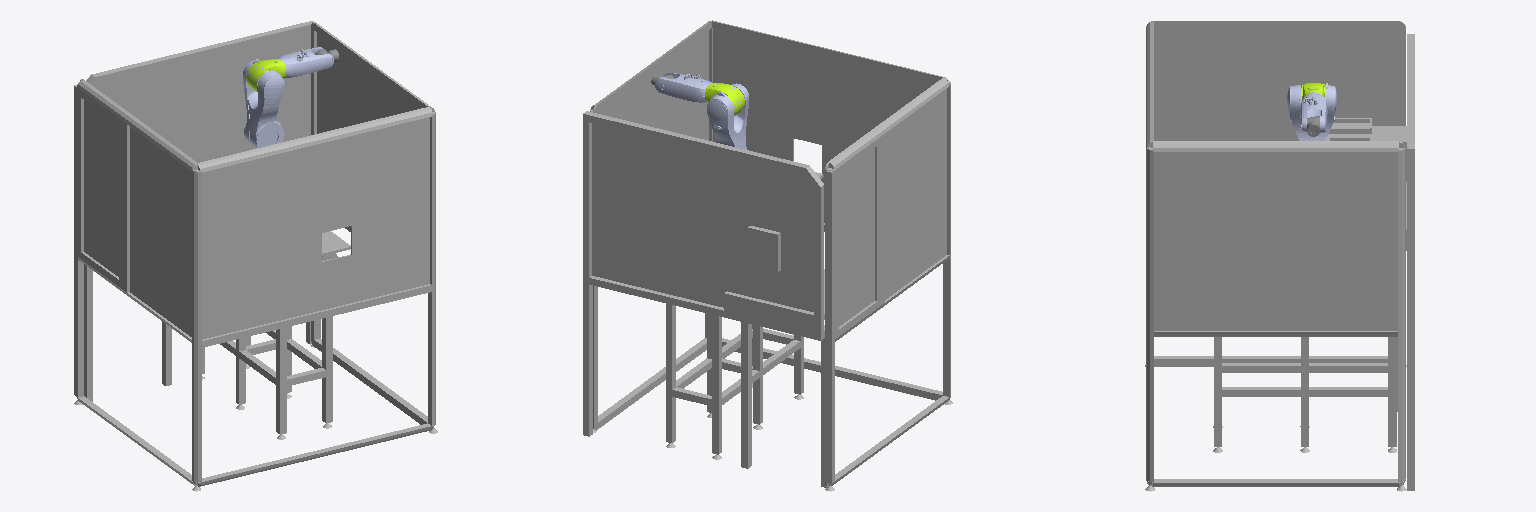
robot.urdf — kuka_urdf:
<?xml version="1.0" encoding="utf-8"?>
<!-- This URDF was automatically created by SolidWorks to URDF Exporter! Originally created by [author] ([email redacted]) 
     Commit Version: 1.5.1-0-g916b5db  Build Version: 1.5.7152.31018
     For more information, please see http://wiki.ros.org/sw_urdf_exporter -->
<robot
  name="kuka_urdf">
  <link
    name="base_link">
    <inertial>
      <origin
        xyz="0.594999519696072 -0.428271085756606 1.10982738925822"
        rpy="0 0 0" />
      <mass
        value="170.009626249841" />
      <inertia
        ixx="15.423191189605"
        ixy="-0.769988015650323"
        ixz="-0.334753403251733"
        iyy="21.0934964927137"
        iyz="-0.217841140427877"
        izz="14.6780515524527" />
    </inertial>
    <visual>
      <origin
        xyz="0 0 0"
        rpy="0 0 0" />
      <geometry>
        <mesh
          filename="package://kuka_urdf/meshes/base_link.STL" />
      </geometry>
      <material
        name="">
        <color
          rgba="0.752941176470588 0.752941176470588 0.752941176470588 1" />
      </material>
    </visual>
    <collision>
      <origin
        xyz="0 0 0"
        rpy="0 0 0" />
      <geometry>
        <mesh
          filename="package://kuka_urdf/meshes/base_link.STL" />
      </geometry>
    </collision>
  </link>
  <link
    name="Link1">
    <inertial>
      <origin
        xyz="0.00796741917398325 0.00201869055885101 0.115718073498994"
        rpy="0 0 0" />
      <mass
        value="6.27526433045052" />
      <inertia
        ixx="0.0762054973038654"
        ixy="9.82188144569927E-06"
        ixz="-0.00530053527199465"
        iyy="0.0500772495062891"
        iyz="-0.00051503963743002"
        izz="0.0562692167501733" />
    </inertial>
    <visual>
      <origin
        xyz="0 0 0"
        rpy="0 0 0" />
      <geometry>
        <mesh
          filename="package://kuka_urdf/meshes/Link1.STL" />
      </geometry>
      <material
        name="">
        <color
          rgba="0.792156862745098 0.819607843137255 0.933333333333333 1" />
      </material>
    </visual>
    <collision>
      <origin
        xyz="0 0 0"
        rpy="0 0 0" />
      <geometry>
        <mesh
          filename="package://kuka_urdf/meshes/Link1.STL" />
      </geometry>
    </collision>
  </link>
  <joint
    name="Joint1"
    type="revolute">
    <origin
      xyz="0.8275 -0.43219 1.3595"
      rpy="0 0 0" />
    <parent
      link="base_link" />
    <child
      link="Link1" />
    <axis
      xyz="0 0 1" />
    <limit
      lower="-6.28"
      upper="6.28"
      effort="500"
      velocity="2" />
  </joint>
  <link
    name="Link2">
    <inertial>
      <origin
        xyz="-0.00525474427373662 -0.00581945166654135 0.131443823398878"
        rpy="0 0 0" />
      <mass
        value="7.36258419830385" />
      <inertia
        ixx="0.151415780044457"
        ixy="-1.49717820004801E-05"
        ixz="0.000868975891906839"
        iyy="0.135639503717904"
        iyz="0.00168356968157077"
        izz="0.0384883579896224" />
    </inertial>
    <visual>
      <origin
        xyz="0 0 0"
        rpy="0 0 0" />
      <geometry>
        <mesh
          filename="package://kuka_urdf/meshes/Link2.STL" />
      </geometry>
      <material
        name="">
        <color
          rgba="0.792156862745098 0.819607843137255 0.933333333333333 1" />
      </material>
    </visual>
    <collision>
      <origin
        xyz="0 0 0"
        rpy="0 0 0" />
      <geometry>
        <mesh
          filename="package://kuka_urdf/meshes/Link2.STL" />
      </geometry>
    </collision>
  </link>
  <joint
    name="Joint2"
    type="revolute">
    <origin
      xyz="0.025 0 0.183"
      rpy="0 0 0" />
    <parent
      link="Link1" />
    <child
      link="Link2" />
    <axis
      xyz="0 -1 0" />
    <limit
      lower="-6.28"
      upper="6.28"
      effort="500"
      velocity="2" />
  </joint>
  <link
    name="Link3">
    <inertial>
      <origin
        xyz="0.0158897369187757 0.00377551618976696 0.0103622040607538"
        rpy="0 0 0" />
      <mass
        value="2.90698496734874" />
      <inertia
        ixx="0.00835937630352446"
        ixy="3.52504576818561E-05"
        ixz="-0.00140858847686176"
        iyy="0.0112132449448129"
        iyz="1.88954255172526E-05"
        izz="0.0100277382418828" />
    </inertial>
    <visual>
      <origin
        xyz="0 0 0"
        rpy="0 0 0" />
      <geometry>
        <mesh
          filename="package://kuka_urdf/meshes/Link3.STL" />
      </geometry>
      <material
        name="">
        <color
          rgba="0.8 1 0.2 1" />
      </material>
    </visual>
    <collision>
      <origin
        xyz="0 0 0"
        rpy="0 0 0" />
      <geometry>
        <mesh
          filename="package://kuka_urdf/meshes/Link3.STL" />
      </geometry>
    </collision>
  </link>
  <joint
    name="Joint3"
    type="revolute">
    <origin
      xyz="0 0 0.315"
      rpy="0 0 0" />
    <parent
      link="Link2" />
    <child
      link="Link3" />
    <axis
      xyz="0 -1 0" />
    <limit
      lower="-6.28"
      upper="6.28"
      effort="500"
      velocity="2" />
  </joint>
  <link
    name="Link4">
    <inertial>
      <origin
        xyz="0.123981724214701 0.0034688211324434 0.000289159358459745"
        rpy="0 0 0" />
      <mass
        value="2.75654210425904" />
      <inertia
        ixx="0.00584711964625554"
        ixy="-0.000156323136874247"
        ixz="5.19522467907691E-06"
        iyy="0.0156113113263976"
        iyz="1.44373593566698E-05"
        izz="0.0172713088405886" />
    </inertial>
    <visual>
      <origin
        xyz="0 0 0"
        rpy="0 0 0" />
      <geometry>
        <mesh
          filename="package://kuka_urdf/meshes/Link4.STL" />
      </geometry>
      <material
        name="">
        <color
          rgba="0.792156862745098 0.819607843137255 0.933333333333333 1" />
      </material>
    </visual>
    <collision>
      <origin
        xyz="0 0 0"
        rpy="0 0 0" />
      <geometry>
        <mesh
          filename="package://kuka_urdf/meshes/Link4.STL" />
      </geometry>
    </collision>
  </link>
  <joint
    name="Joint4"
    type="revolute">
    <origin
      xyz="0.10695 0.003 0.035"
      rpy="0 0 0" />
    <parent
      link="Link3" />
    <child
      link="Link4" />
    <axis
      xyz="-1 0 0" />
    <limit
      lower="-6.28"
      upper="6.28"
      effort="500"
      velocity="2" />
  </joint>
  <link
    name="Link5">
    <inertial>
      <origin
        xyz="0.0157891702201669 0.0019136754426482 -3.03958143461625E-05"
        rpy="0 0 0" />
      <mass
        value="0.442067197041371" />
      <inertia
        ixx="0.000318420757784039"
        ixy="1.66314420372699E-05"
        ixz="3.20639671747857E-07"
        iyy="0.000528480030475778"
        iyz="3.23079721639542E-07"
        izz="0.000562282896446415" />
    </inertial>
    <visual>
      <origin
        xyz="0 0 0"
        rpy="0 0 0" />
      <geometry>
        <mesh
          filename="package://kuka_urdf/meshes/Link5.STL" />
      </geometry>
      <material
        name="">
        <color
          rgba="0.792156862745098 0.819607843137255 0.933333333333333 1" />
      </material>
    </visual>
    <collision>
      <origin
        xyz="0 0 0"
        rpy="0 0 0" />
      <geometry>
        <mesh
          filename="package://kuka_urdf/meshes/Link5.STL" />
      </geometry>
    </collision>
  </link>
  <joint
    name="Joint5"
    type="revolute">
    <origin
      xyz="0.25805 0 0"
      rpy="0 0 0" />
    <parent
      link="Link4" />
    <child
      link="Link5" />
    <axis
      xyz="0 1 0" />
    <limit
      lower="-6.28"
      upper="6.28"
      effort="500"
      velocity="2" />
  </joint>
  <link
    name="Link6">
    <inertial>
      <origin
        xyz="0.005980331956146 2.77555756156289E-16 4.3140731314173E-05"
        rpy="0 0 0" />
      <mass
        value="0.0139949492210214" />
      <inertia
        ixx="3.02502810414478E-06"
        ixy="-3.73225880560227E-21"
        ixz="-8.5605586665465E-10"
        iyy="1.71731248188302E-06"
        iyz="1.07125006063243E-22"
        izz="1.70788961196181E-06" />
    </inertial>
    <visual>
      <origin
        xyz="0 0 0"
        rpy="0 0 0" />
      <geometry>
        <mesh
          filename="package://kuka_urdf/meshes/Link6.STL" />
      </geometry>
      <material
        name="">
        <color
          rgba="0.6 0.6 0.6 1" />
      </material>
    </visual>
    <collision>
      <origin
        xyz="0 0 0"
        rpy="0 0 0" />
      <geometry>
        <mesh
          filename="package://kuka_urdf/meshes/Link6.STL" />
      </geometry>
    </collision>
  </link>
  <joint
    name="Joint6"
    type="revolute">
    <origin
      xyz="0.0665 0 0"
      rpy="0 0 0" />
    <parent
      link="Link5" />
    <child
      link="Link6" />
    <axis
      xyz="1 0 0" />
    <limit
      lower="-6.28"
      upper="6.28"
      effort="500"
      velocity="2" />
  </joint>
</robot>

--- Render facts (derived) ---
Views: 3 orthographic renders of the robot side by side, from view 1: azimuth 30°, elevation 25°; view 2: azimuth 150°, elevation 25°; view 3: azimuth 270°, elevation 25°.
Model kuka_urdf with 7 links and 6 joints (6 revolute), rooted at base_link, posed all joints at 0.
Visible links, largest first — view 1: base_link, Link2, Link5, Link3; view 2: base_link, Link2, Link5, Link3; view 3: base_link, Link2, Link5.
Boxes of the visible links, x1,y1,x2,y2 form: base_link: [74, 21, 437, 491]; Link2: [243, 59, 284, 148]; Link5: [278, 47, 333, 78]; Link3: [246, 59, 285, 91]; base_link: [583, 20, 952, 491]; Link2: [707, 83, 748, 149]; Link5: [655, 73, 711, 102]; Link3: [705, 83, 744, 114]; base_link: [1145, 21, 1414, 491]; Link2: [1287, 83, 1336, 140]; Link5: [1300, 92, 1327, 132].
Size in the robot's own frame: 1.49 by 1.33 by 1.97 metres.
Meshes: 7 distinct files referenced, 7 mesh visuals loaded (7 binary STL).